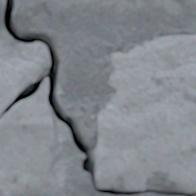brick: (94, 35, 195, 190)
broken_brick: (0, 79, 54, 195), (0, 58, 44, 114)
crack: (0, 0, 194, 195)
